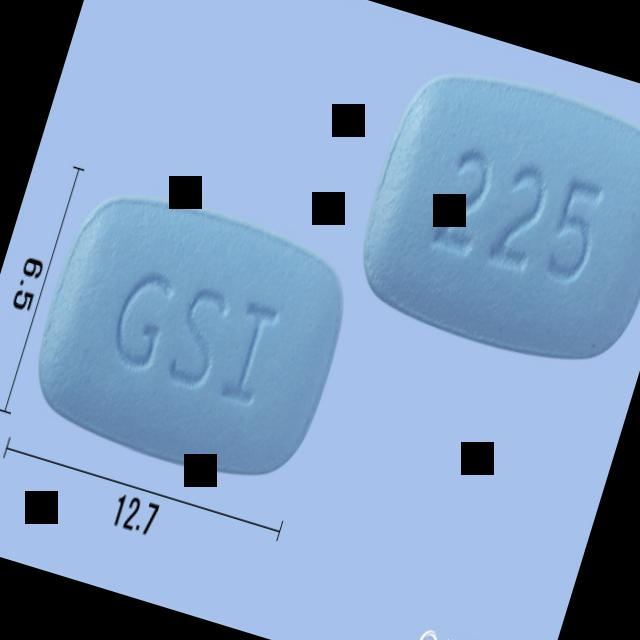Descovy: (16, 170, 368, 503), (338, 45, 640, 384)
